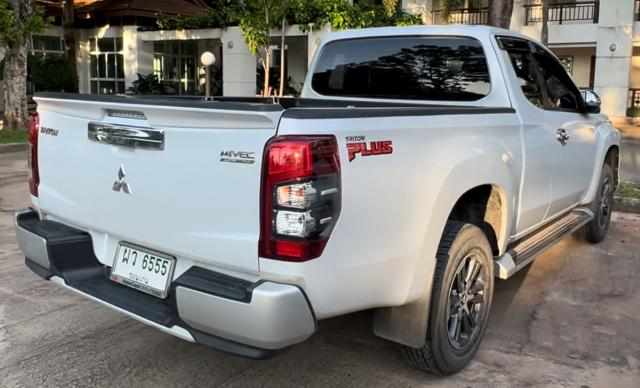pickup-truck: (13, 27, 619, 377)
